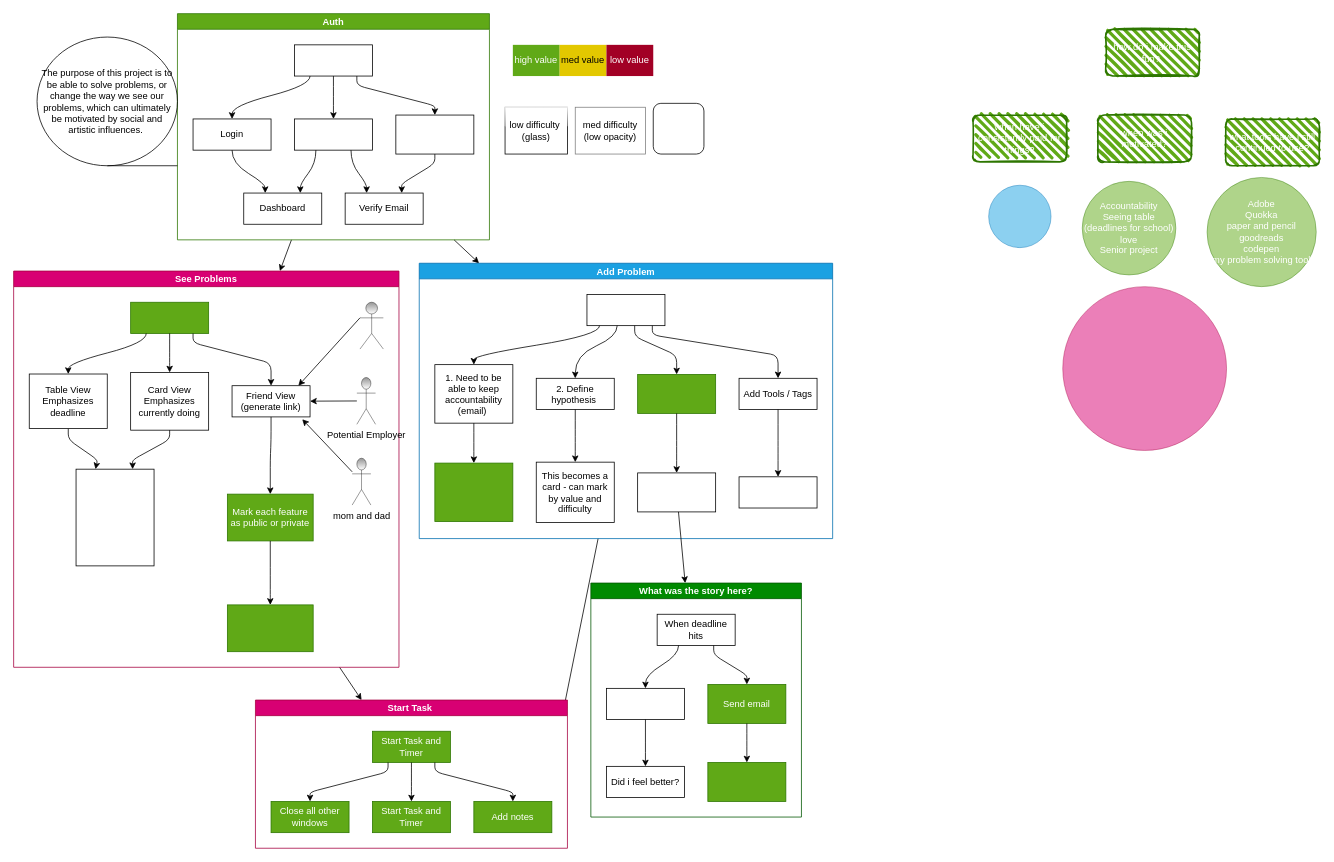
The diagram is 1334 pixels wide and 862 high, and some of its shapes have lost their labels. The shapes that lost their labels are listed below. From the top down, each one's centre as x and y in pixels, then its label:
At (x=333, y=60): "Start".
At (x=333, y=134): "Signup".
At (x=434, y=134): "Forgot Pass".
At (x=678, y=128): "high difficuty (rounded)".
At (x=1019, y=216): "Quokka Spotify School of life".
At (x=169, y=317): "See Problems I Care About".
At (x=371, y=325): "Best friend".
At (x=625, y=310): "Add Problem I Care About".
At (x=1144, y=368): "Art Social Clear Thinking Doing things that are true to me".
At (x=676, y=393): "3. Set deadline".
At (x=473, y=492): "Nodemailer -> will send email to friend to let them know".
At (x=676, y=492): "User will be notified".
At (x=777, y=492): "Then can easily pull this up later".
At (x=114, y=517): "Add milestone See Tasks Be able to mark problems done See total time".
At (x=270, y=628): "Automatically send out email, setting deadline".
At (x=645, y=704): "Reflection".
At (x=746, y=781): "Beautiful Project Page".
